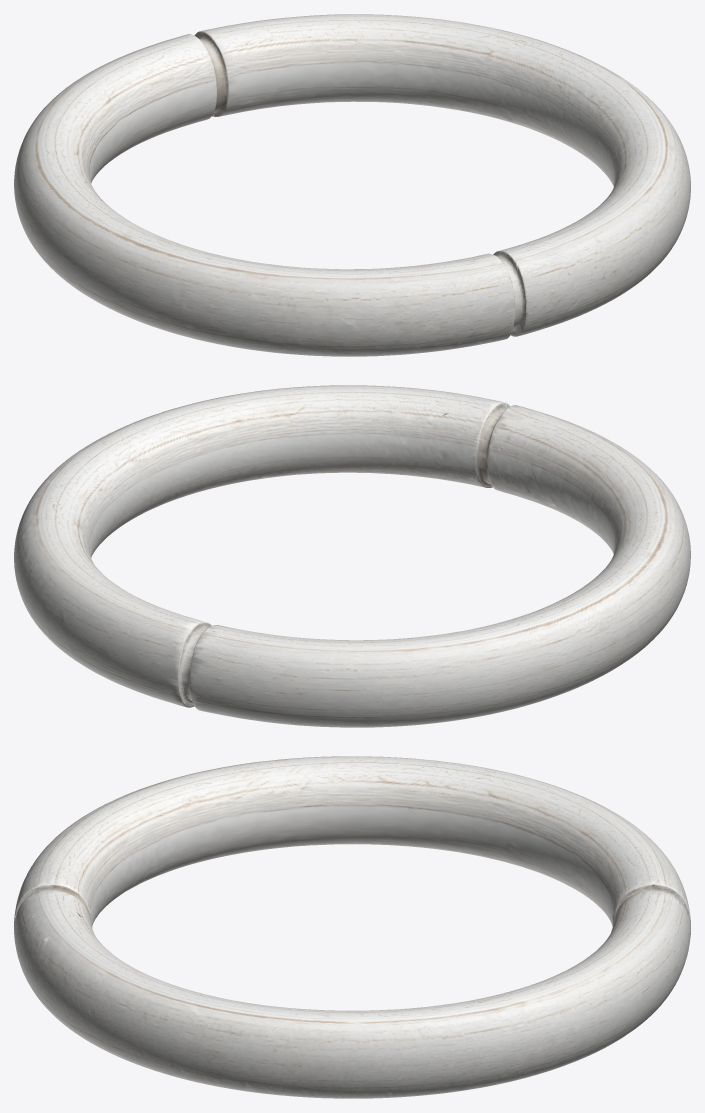
File: Meshy_AI_Weathered_White_Ring_0511180849_texture.fbx
The picture shows the model from 3 angles, top to bottom: view 1: azimuth 30°, elevation 25°; view 2: azimuth 150°, elevation 25°; view 3: azimuth 270°, elevation 25°; orthographic projection.
Visible parts, largest first — view 1: Mesh_0; view 2: Mesh_0; view 3: Mesh_0.
Part boxes in pixels (<box>): Mesh_0: <box>14,14,690,356</box>; Mesh_0: <box>14,385,690,727</box>; Mesh_0: <box>14,756,690,1098</box>.
Bounding box in the file's own units: 190 × 25.02 × 190.
Materials: 1 (1 with a texture image).
